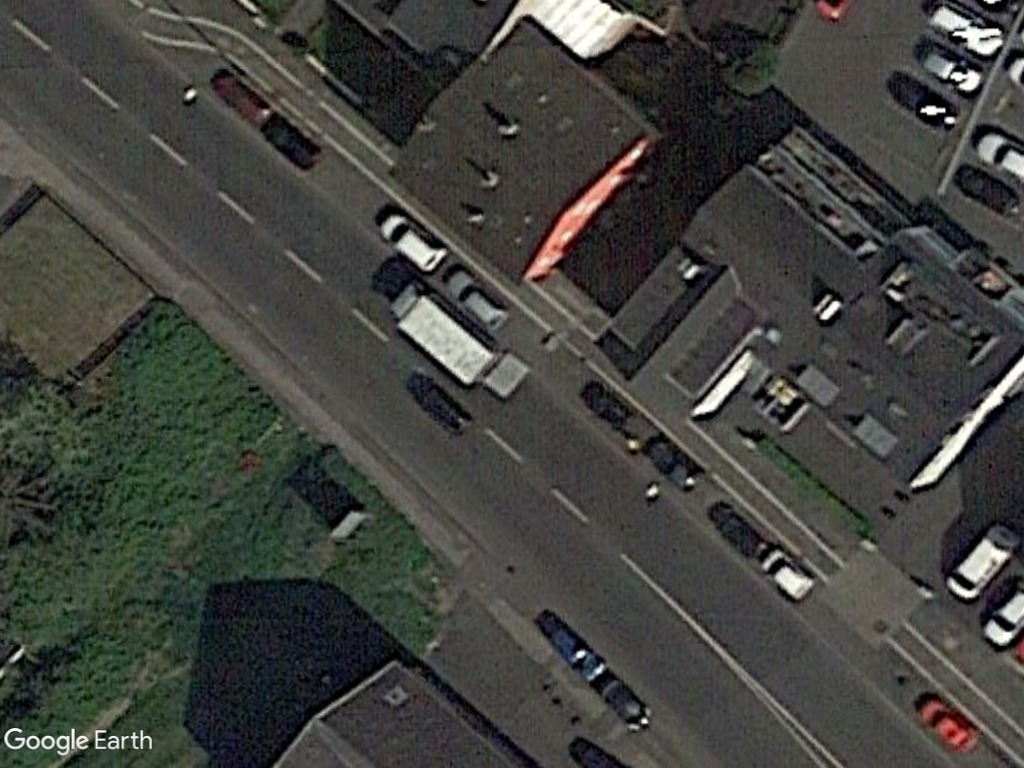car: (737, 527, 824, 616), (371, 201, 451, 277), (907, 682, 982, 756)
truck: (384, 274, 502, 396)
van: (938, 519, 1023, 604)
